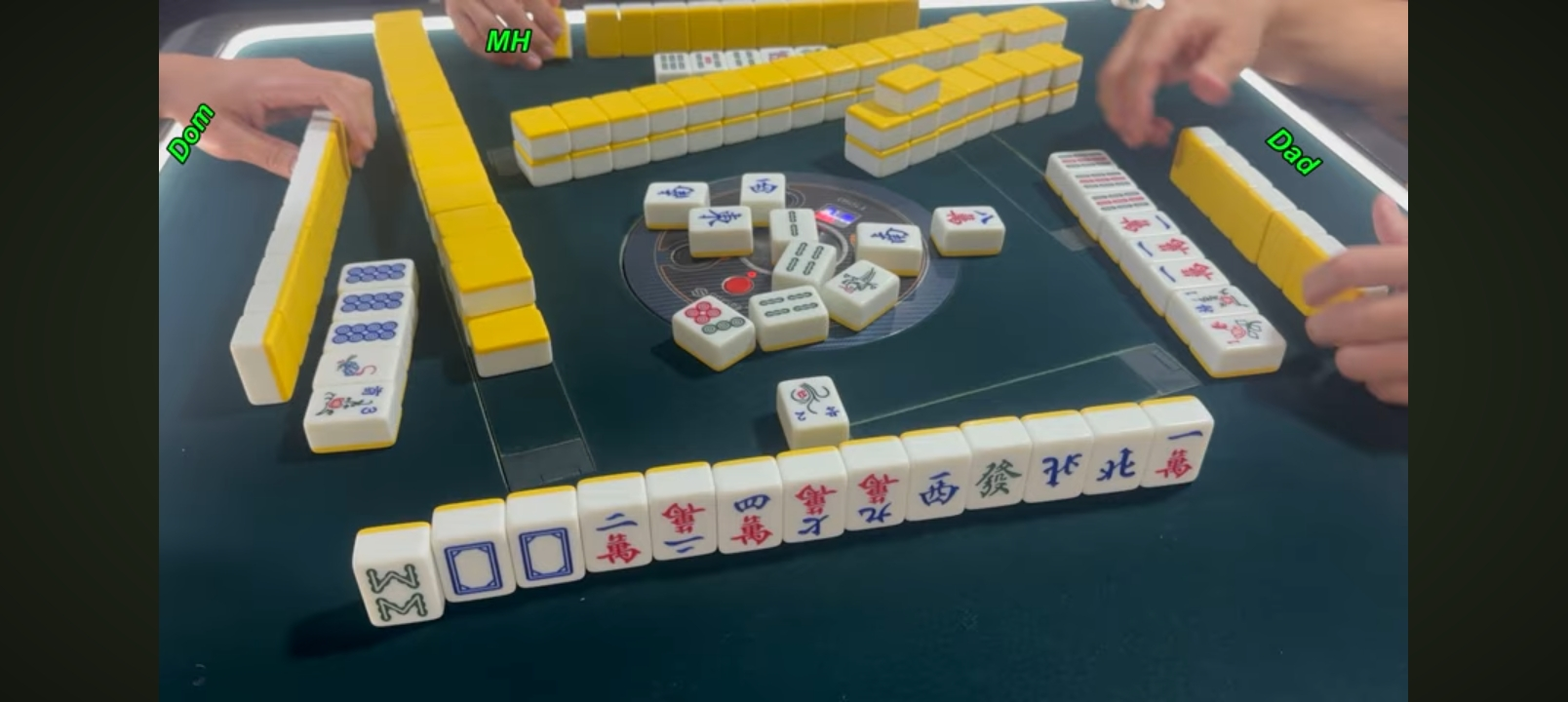TILE: (352, 561, 436, 626), (433, 537, 513, 598), (504, 523, 581, 586), (580, 507, 649, 573), (648, 497, 719, 560), (777, 375, 854, 430), (1150, 424, 1213, 487), (717, 489, 781, 550), (967, 449, 1030, 510), (908, 459, 972, 519), (1029, 441, 1092, 501), (849, 469, 909, 531), (783, 482, 847, 539), (1092, 435, 1155, 492)
